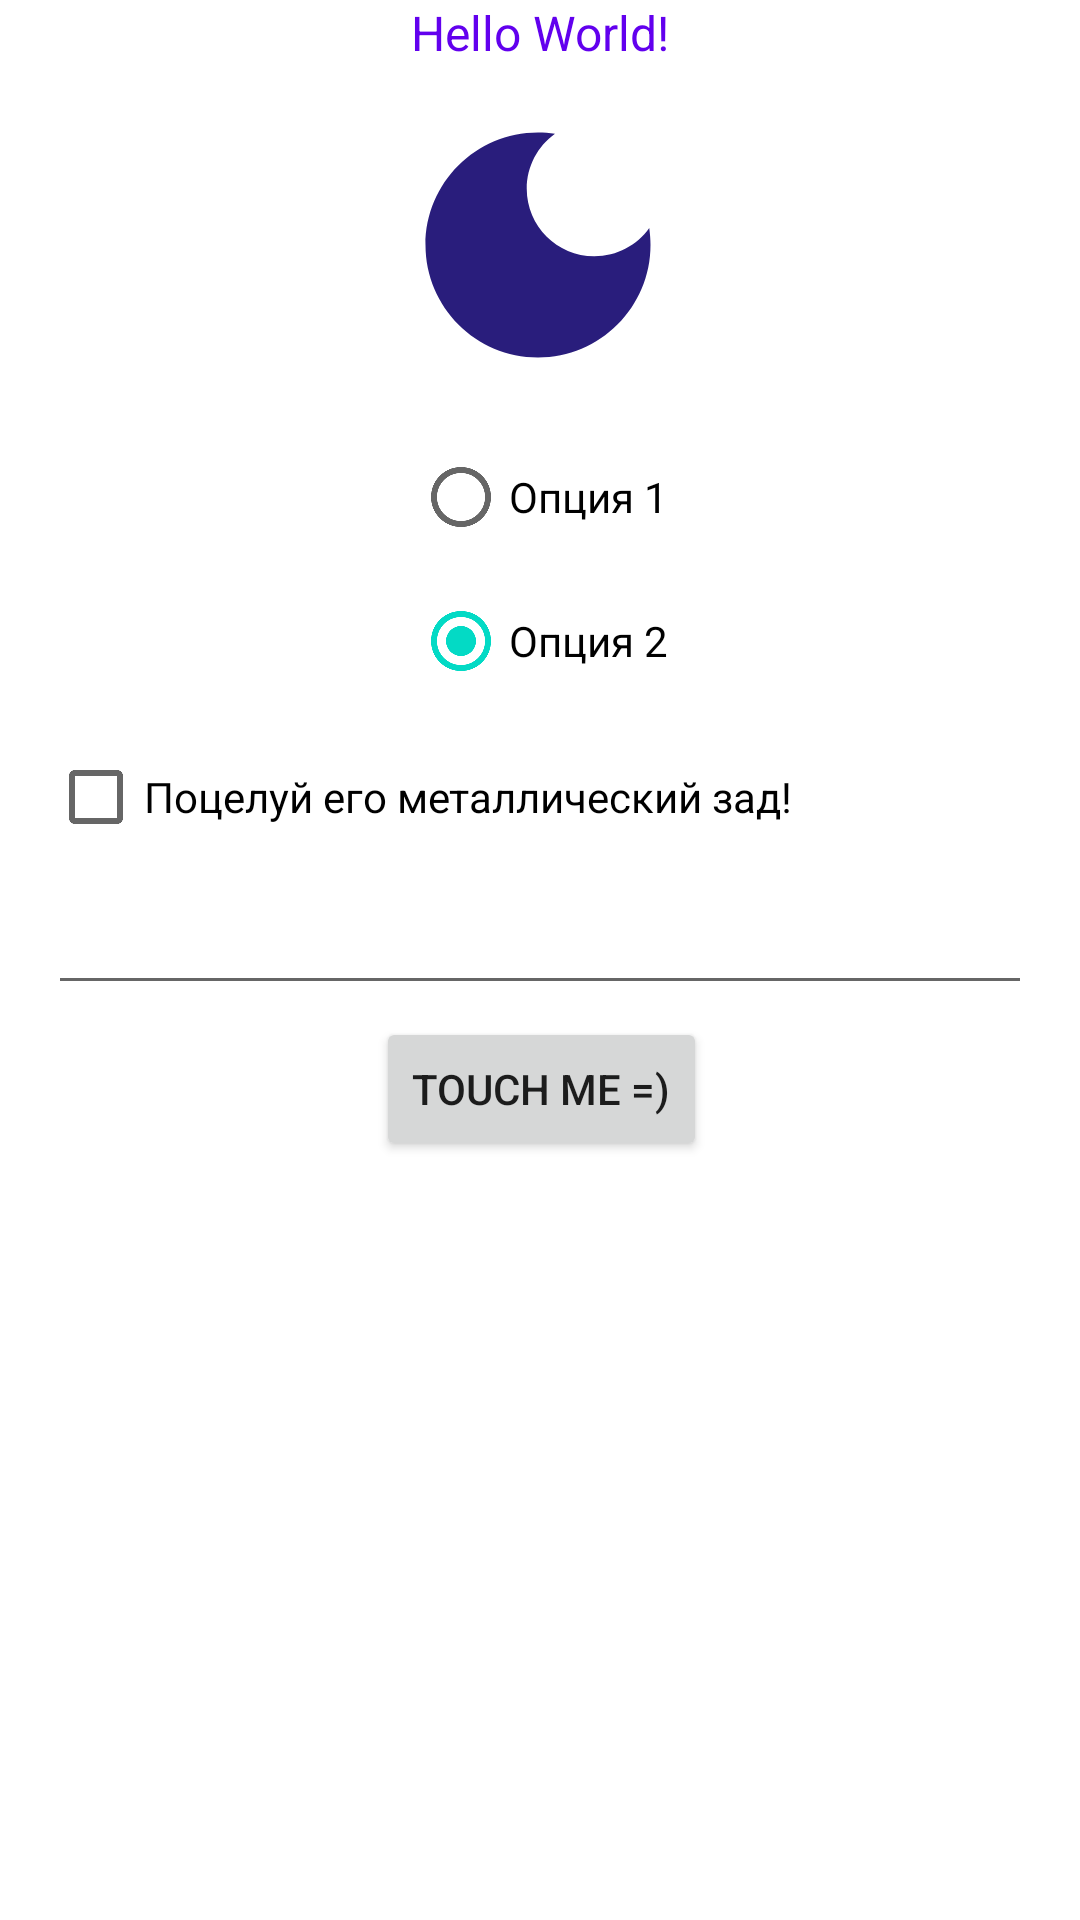

Icon bounding boxes for this 1080x1920 phone screenshot, format (x1, y1, x2, y2):
mode: (425, 132, 651, 358)
